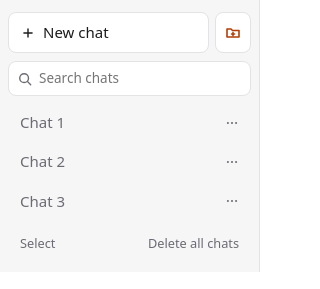
Test: select mode › clicking a row ticks it instead of opening the chat
Click the button "Select" at (38, 244), box [8, 228, 67, 260]
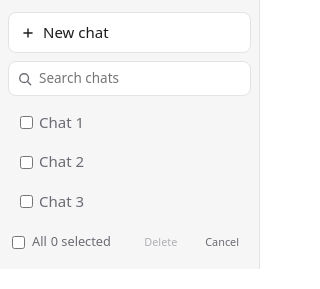
Click the list item "Chat 2" at (52, 161), box [20, 151, 84, 171]
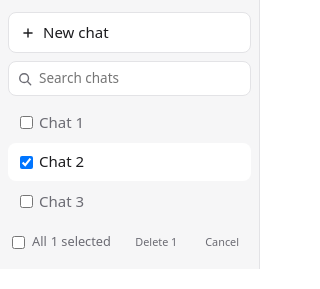
expect the 2nd checkbox with class "tick" is checked: met, box [20, 156, 33, 168]
expect the element with class "select-bar" shows "1 selected": met, box [51, 232, 111, 250]
